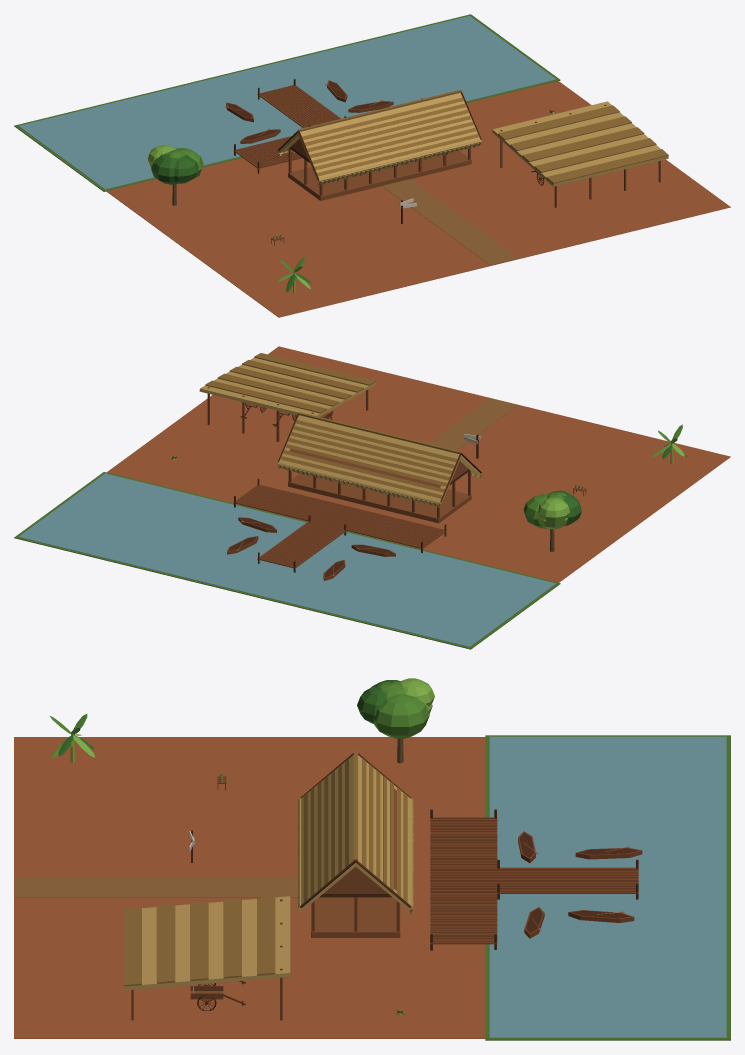
The model's file is station.glb.
3 renders of one model, top to bottom at view 1: azimuth 30°, elevation 25°; view 2: azimuth 150°, elevation 25°; view 3: azimuth 270°, elevation 25°, orthographic. The views are drawn at different scales.
Visible parts, largest first — view 1: body; view 2: body; view 3: body.
Part boxes in pixels (x1,y1,x2,y2): body: [14, 14, 730, 317]; body: [14, 346, 730, 649]; body: [14, 678, 730, 1040].
Size of the model in its own units: 48.4 by 6.49 by 48.15.
